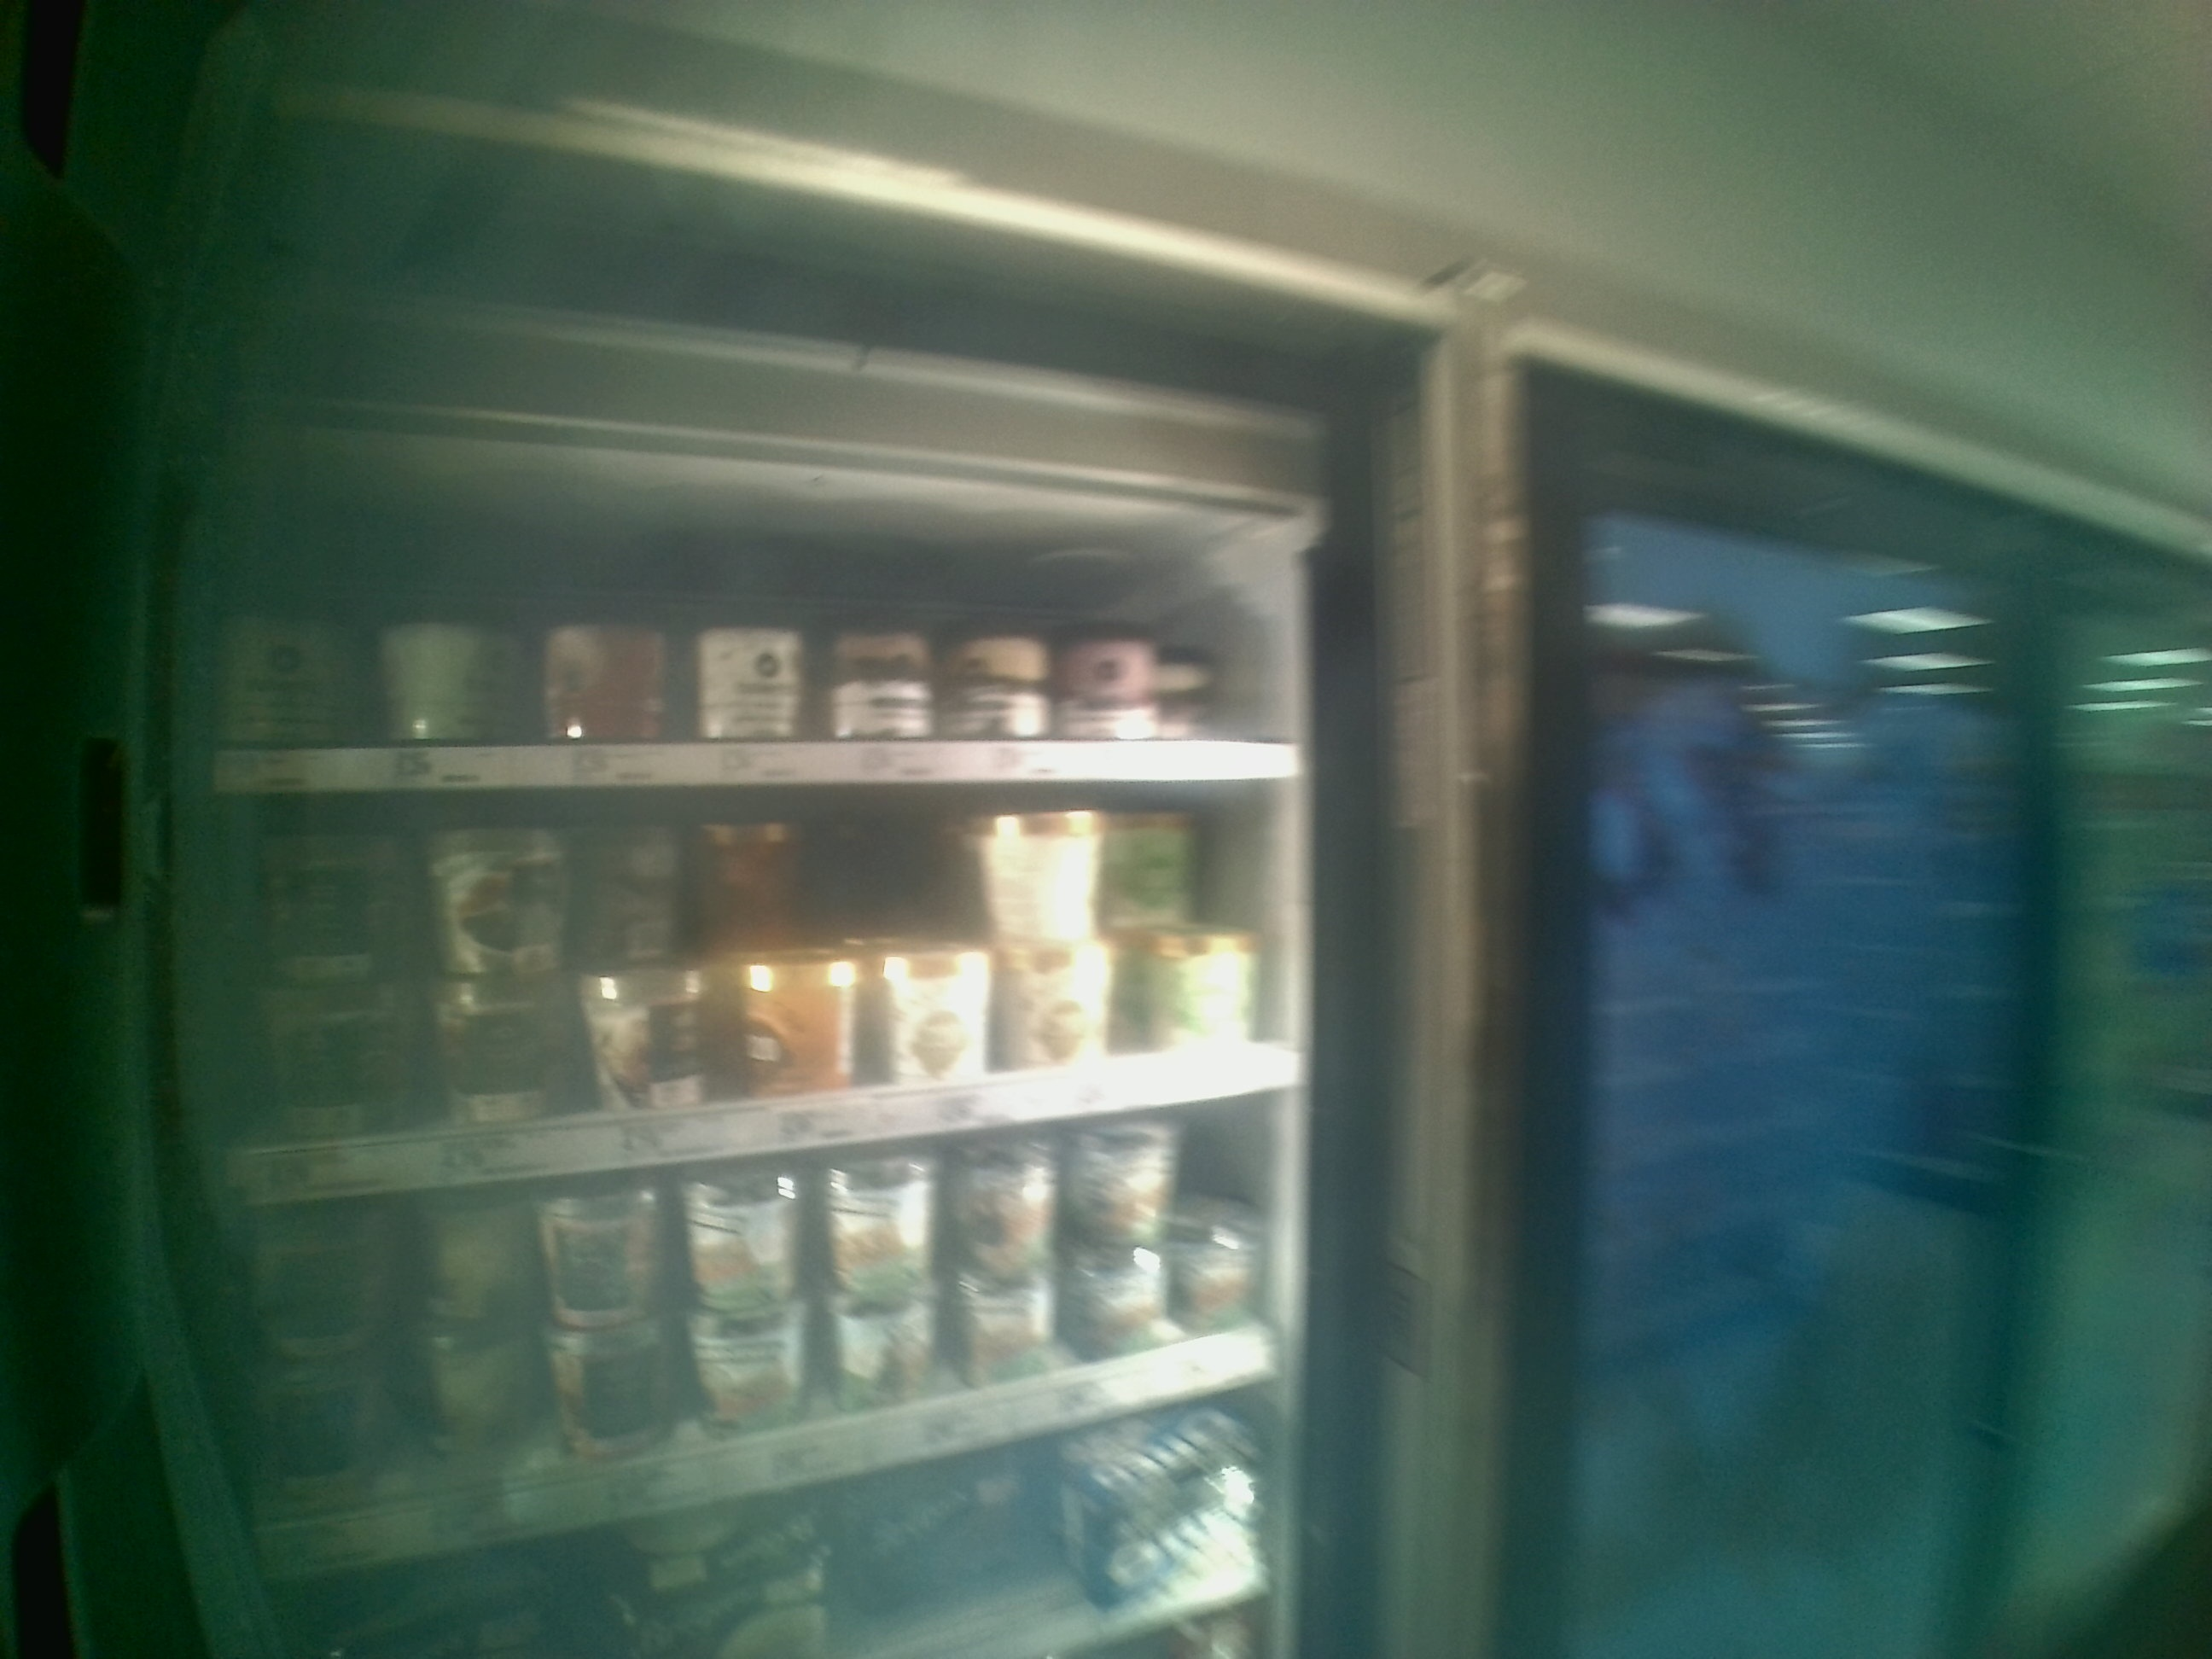shelf: (235, 1086, 1305, 1588), (199, 784, 1362, 1213), (206, 457, 1303, 788)
